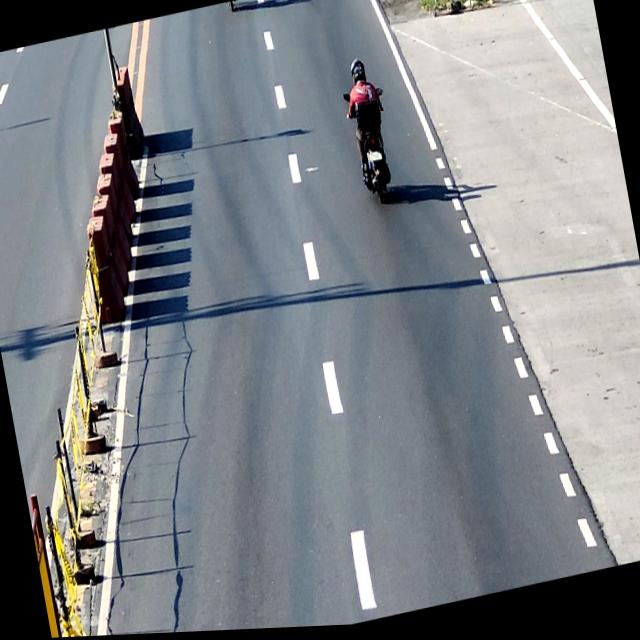License-Plate: (367, 153, 382, 165)
Motorcycle: (342, 86, 402, 212)
